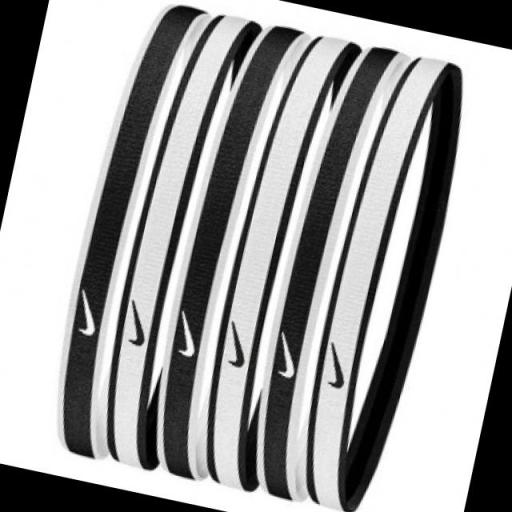Nike: (120, 295, 154, 352)
